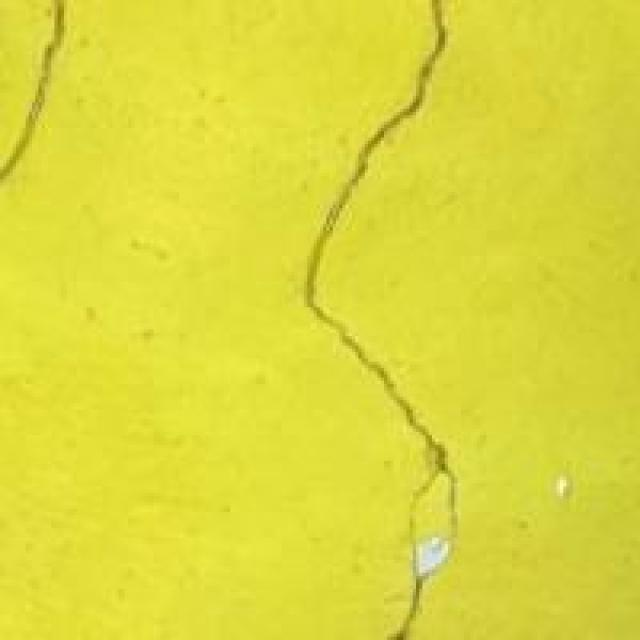crack: (186, 0, 480, 637)
